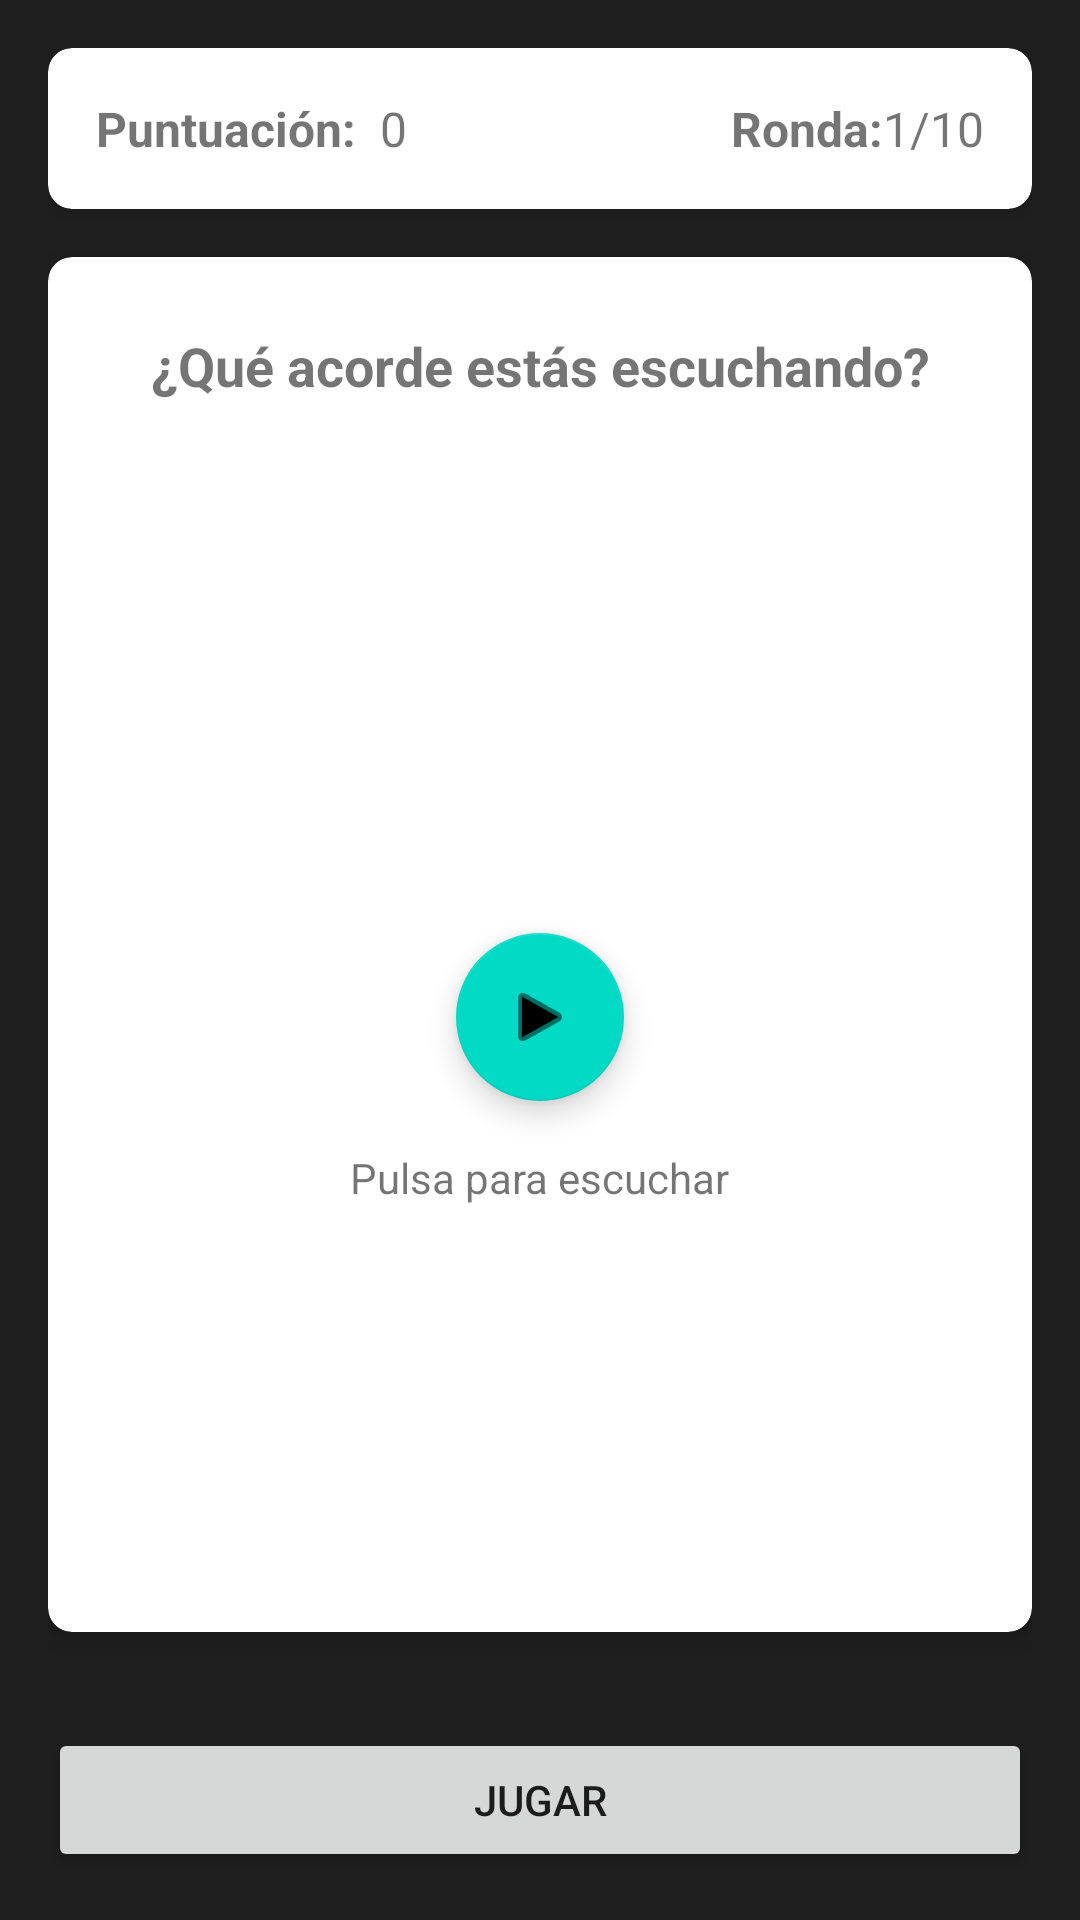

Where to tap for icons on this 1080 x 1920 app screen, as (x=x, y=y):
Reproducir sonido: (x=540, y=1017)
